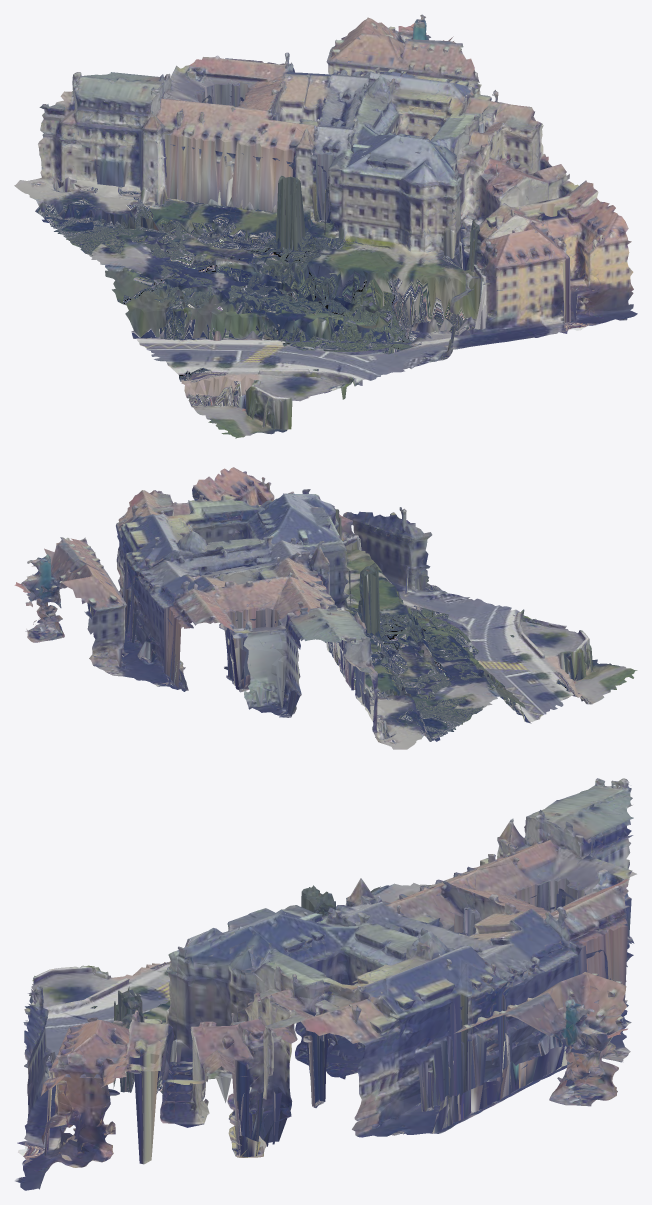
The picture shows the model from 3 angles, top to bottom: view 1: azimuth 30°, elevation 25°; view 2: azimuth 150°, elevation 25°; view 3: azimuth 270°, elevation 25°; orthographic projection. The views are drawn at different scales.
Size of the model in its own units: 105 by 45.56 by 105.
Materials: 1 (1 with a texture image).
